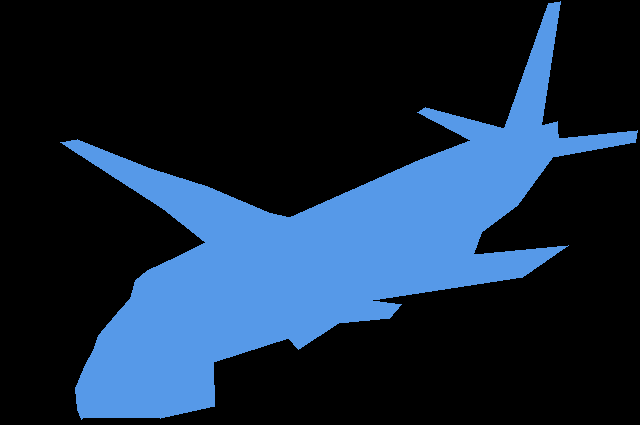Airplane: (60, 1, 637, 419)
